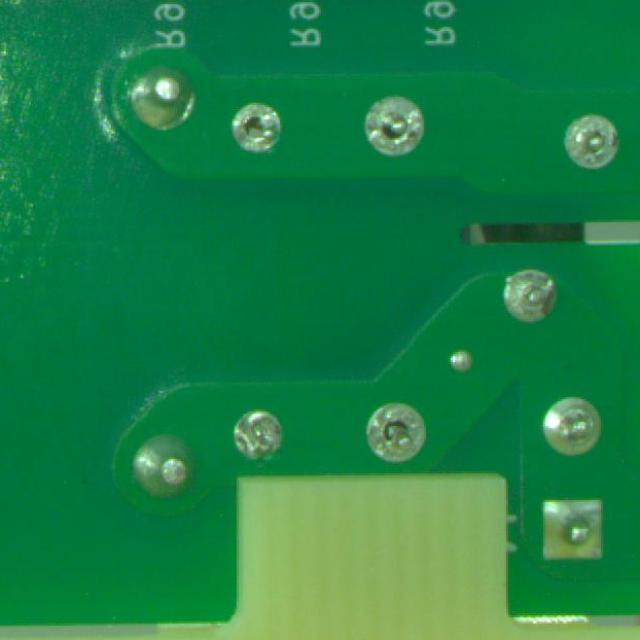Insufficient solder: (482, 260, 564, 336), (357, 398, 435, 474), (362, 88, 420, 156), (224, 100, 302, 150), (230, 400, 290, 460), (564, 110, 624, 169)
